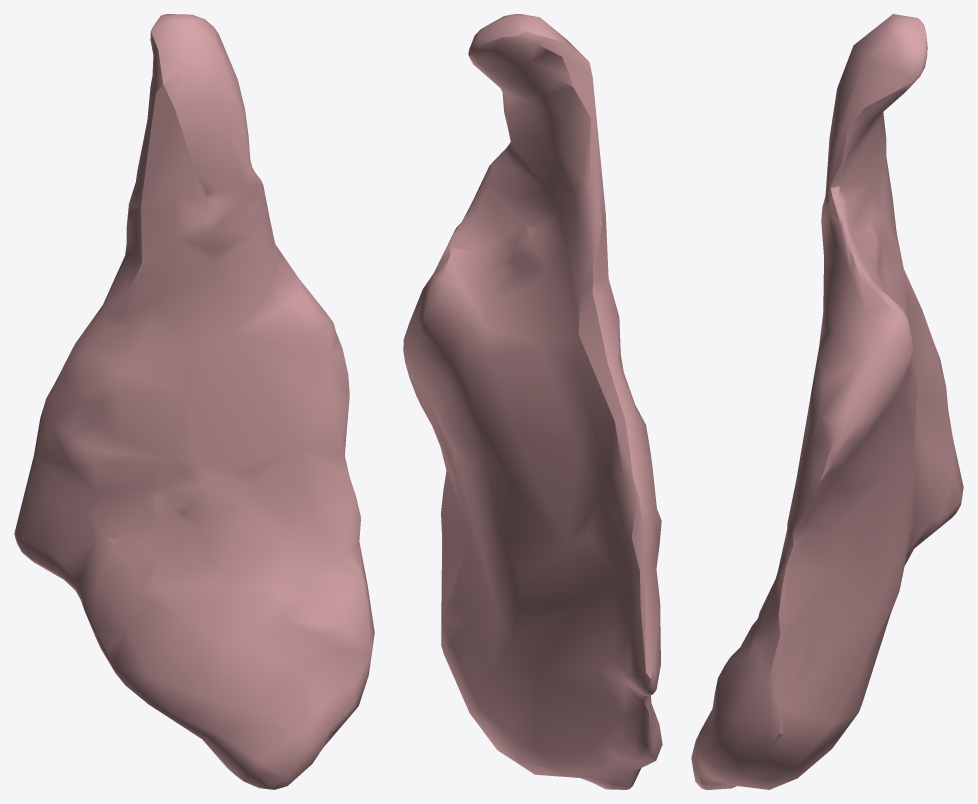
File: fma71194_fj3151.glb
3 renders of one model, left to right at view 1: azimuth 30°, elevation 25°; view 2: azimuth 150°, elevation 25°; view 3: azimuth 270°, elevation 25°, orthographic. The views are drawn at different scales.
Visible parts, largest first — view 1: FMA71194_FJ3151; view 2: FMA71194_FJ3151; view 3: FMA71194_FJ3151.
Boxes of the visible parts, left/top/right/bottom form: FMA71194_FJ3151: left=14, top=14, right=374, bottom=789; FMA71194_FJ3151: left=403, top=14, right=662, bottom=789; FMA71194_FJ3151: left=691, top=14, right=963, bottom=789.
Size of the model in its own units: 0.0272 by 0.0686 by 0.0221.
